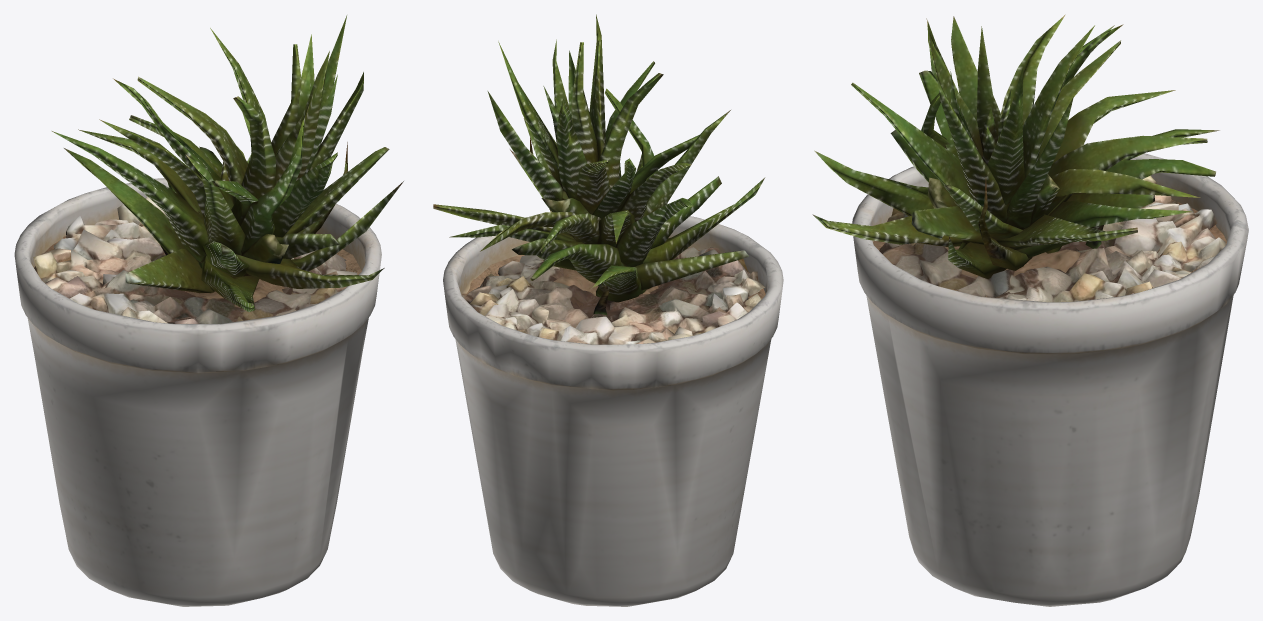
Rendered from potted_plant_04.gltf.
The picture shows the model from 3 angles, left to right: view 1: azimuth 30°, elevation 25°; view 2: azimuth 150°, elevation 25°; view 3: azimuth 270°, elevation 25°; orthographic projection. The views are drawn at different scales.
Visible parts, largest first — view 1: potted_plant_04_pot, potted_plant_04_plant, potted_plant_04_ground, potted_plant_04_dirt; view 2: potted_plant_04_pot, potted_plant_04_plant, potted_plant_04_ground, potted_plant_04_dirt; view 3: potted_plant_04_pot, potted_plant_04_plant, potted_plant_04_ground, potted_plant_04_dirt.
Part boxes in pixels (bbox=[...]): potted_plant_04_pot: bbox=[14, 178, 381, 606]; potted_plant_04_plant: bbox=[52, 15, 403, 311]; potted_plant_04_ground: bbox=[33, 196, 357, 323]; potted_plant_04_dirt: bbox=[34, 236, 361, 307]; potted_plant_04_pot: bbox=[443, 216, 783, 606]; potted_plant_04_plant: bbox=[433, 14, 765, 315]; potted_plant_04_ground: bbox=[461, 247, 765, 344]; potted_plant_04_dirt: bbox=[462, 247, 765, 306]; potted_plant_04_pot: bbox=[852, 144, 1248, 606]; potted_plant_04_plant: bbox=[812, 14, 1219, 279]; potted_plant_04_ground: bbox=[879, 175, 1225, 302]; potted_plant_04_dirt: bbox=[873, 199, 1226, 296].
Bounding box in the file's own units: 0.1672 × 0.2671 × 0.1843.
Materials: 1 (1 with a texture image).
